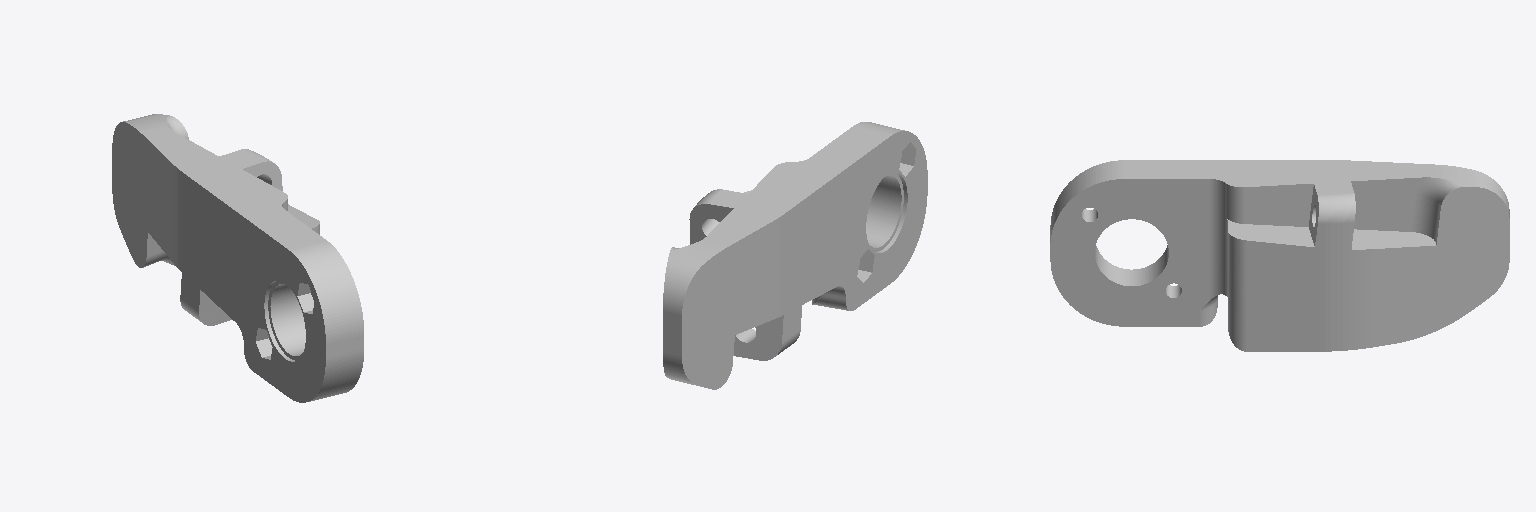
File: Finger Unified Assembly - Finger Link 2.obj
3 views of the same model, side by side, from view 1: azimuth 30°, elevation 25°; view 2: azimuth 150°, elevation 25°; view 3: azimuth 270°, elevation 25° (orthographic).
Parts seen in each view (by area): view 1: mesh66, mesh44, mesh58, mesh11, mesh19, mesh10, mesh56, mesh51, mesh32; view 2: mesh66, mesh58, mesh44, mesh19, mesh46, mesh57, mesh56, mesh37, mesh47, mesh45; view 3: mesh8, mesh49, mesh31, mesh44, mesh36, mesh39, mesh25, mesh28, mesh23, mesh26, mesh11, mesh38 (+6 smaller).
Boxes of the visible parts, x1=… form: mesh66: x1=182, y1=172, x2=325, y2=402; mesh44: x1=143, y1=128, x2=326, y2=249; mesh58: x1=112, y1=122, x2=173, y2=267; mesh11: x1=289, y1=241, x2=363, y2=343; mesh19: x1=270, y1=284, x2=305, y2=355; mesh10: x1=309, y1=349, x2=363, y2=401; mesh56: x1=174, y1=166, x2=181, y2=298; mesh51: x1=199, y1=290, x2=231, y2=325; mesh32: x1=243, y1=161, x2=282, y2=190; mesh66: x1=784, y1=131, x2=927, y2=340; mesh58: x1=682, y1=220, x2=774, y2=389; mesh44: x1=700, y1=127, x2=889, y2=247; mesh19: x1=866, y1=176, x2=901, y2=247; mesh46: x1=663, y1=257, x2=701, y2=315; mesh57: x1=734, y1=315, x2=783, y2=360; mesh56: x1=775, y1=215, x2=783, y2=342; mesh37: x1=689, y1=204, x2=733, y2=244; mesh47: x1=663, y1=312, x2=681, y2=356; mesh45: x1=669, y1=241, x2=724, y2=264; mesh8: x1=1050, y1=179, x2=1209, y2=326; mesh49: x1=1372, y1=187, x2=1509, y2=347; mesh31: x1=1247, y1=224, x2=1318, y2=351; mesh44: x1=1124, y1=160, x2=1435, y2=194; mesh36: x1=1319, y1=222, x2=1371, y2=351; mesh39: x1=1351, y1=178, x2=1420, y2=231; mesh25: x1=1245, y1=184, x2=1313, y2=226; mesh28: x1=1228, y1=233, x2=1246, y2=351; mesh23: x1=1210, y1=179, x2=1227, y2=299; mesh26: x1=1227, y1=219, x2=1314, y2=246; mesh11: x1=1050, y1=160, x2=1123, y2=242; mesh38: x1=1352, y1=229, x2=1435, y2=249.
Size of the model in its own units: 0.014 by 0.022 by 0.062.